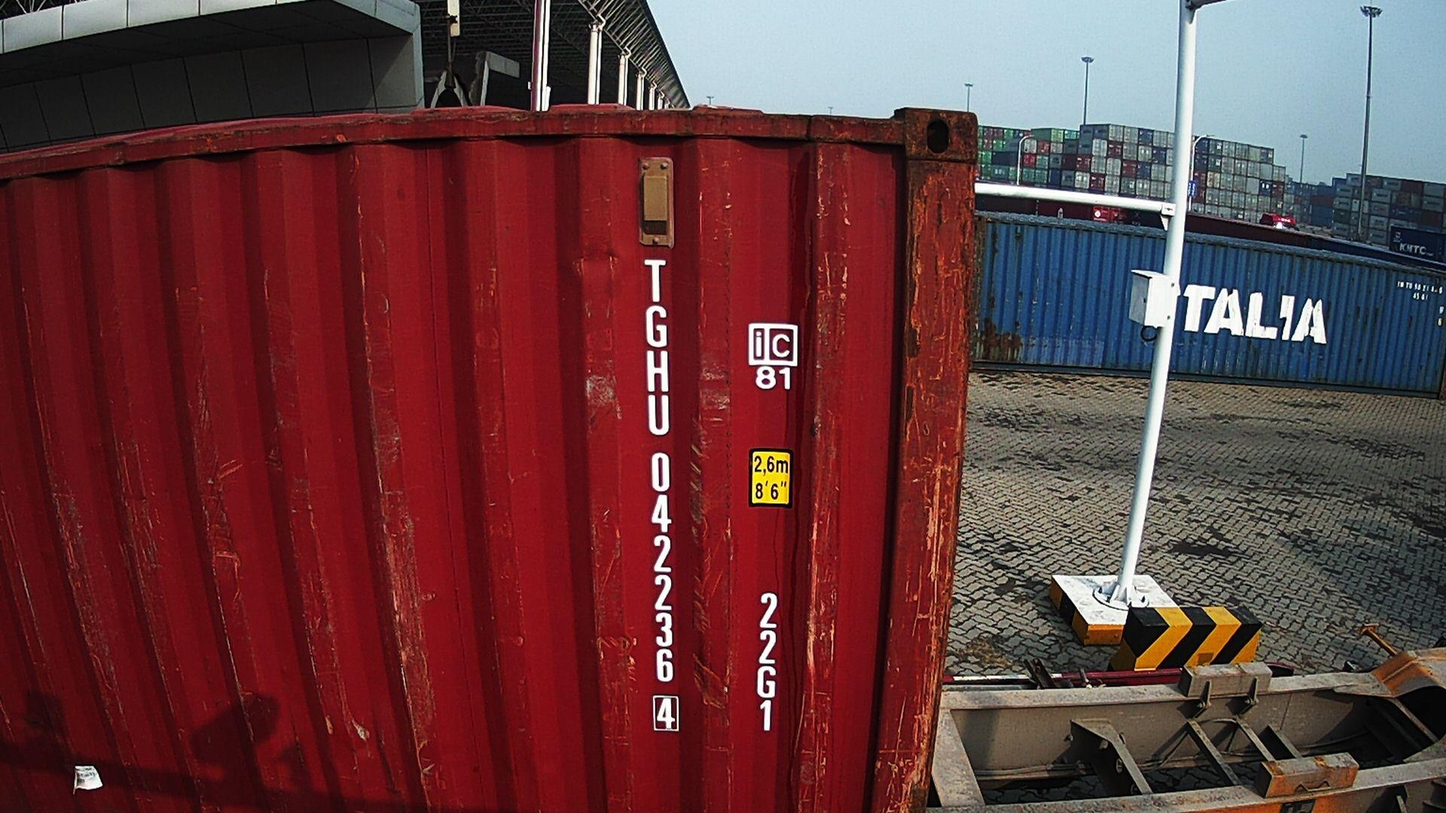container-numbers: (639, 254, 683, 741), (752, 586, 782, 737)
